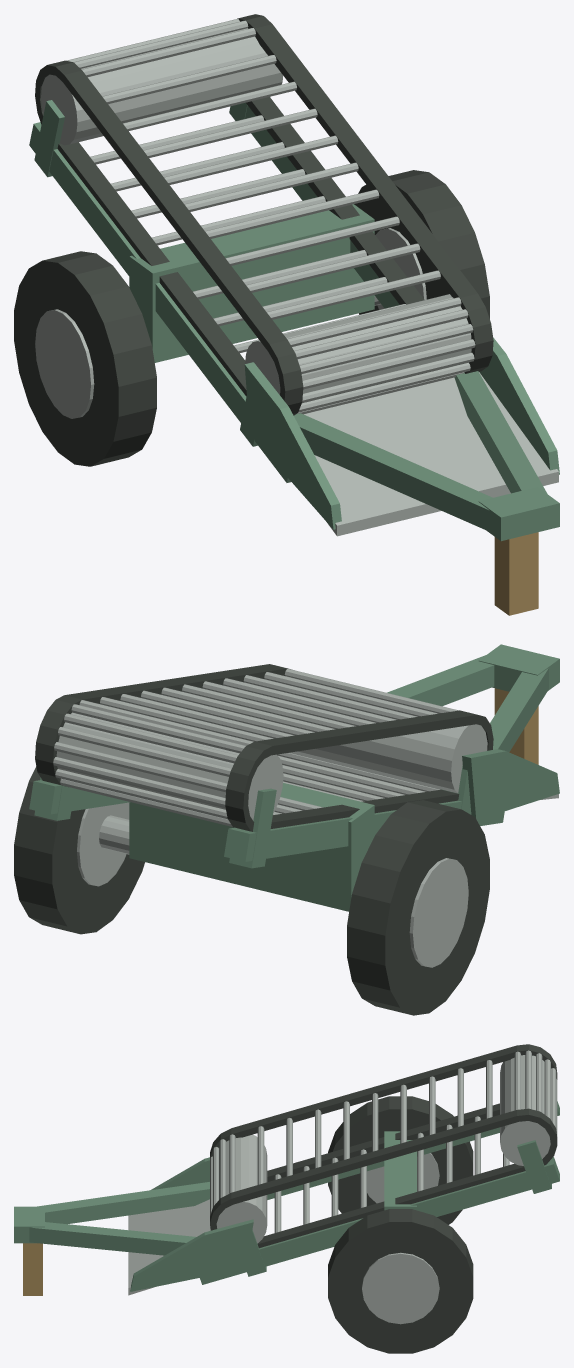
The picture shows the model from 3 angles, top to bottom: view 1: azimuth 30°, elevation 25°; view 2: azimuth 150°, elevation 25°; view 3: azimuth 270°, elevation 25°; orthographic projection. The views are drawn at different scales.
Parts seen in each view (by area): view 1: WholeFacetedGroundWheel0, WholeClosedSideRodWebBand0, WholeBroadBluntFrontShare, WholeRaisedAxleCarrier, WholeClosedSideRodWebBand1, WholeWebEndRoller1, WholeForwardDivergingTowBeam0, WholeInclinedLowerSideFrame0, WholeFacetedGroundWheel1, WholeWebEndRoller0, WholeLowForwardShareCheek0, WholeProudWheelHub0 (+30 smaller); view 2: WholeFacetedGroundWheel0, WholeRaisedAxleCarrier, WholeFacetedGroundWheel1, WholeClosedSideRodWebBand0, WholeWebEndRoller0, WholeWebEndRoller1, WholeProudWheelHub0, WholeLowForwardShareCheek0, WholeClosedSideRodWebBand1, WholeInclinedLowerSideFrame0, WholeForwardDivergingTowBeam1, WholeProudWheelHub1 (+29 smaller); view 3: WholeFacetedGroundWheel1, WholeClosedSideRodWebBand1, WholeClosedSideRodWebBand0, WholeFacetedGroundWheel0, WholeInclinedLowerSideFrame1, WholeLowForwardShareCheek1, WholeProudWheelHub1, WholeForwardDivergingTowBeam0, WholeForwardDivergingTowBeam1, WholeWebEndRoller0, WholeWebEndRoller1, WholeBroadBluntFrontShare (+23 smaller).
Part boxes in pixels (left/top/right/bottom): WholeFacetedGroundWheel0: left=14, top=251, right=156, bottom=466; WholeClosedSideRodWebBand0: left=35, top=60, right=303, bottom=415; WholeBroadBluntFrontShare: left=304, top=372, right=558, bottom=536; WholeRaisedAxleCarrier: left=129, top=204, right=374, bottom=362; WholeClosedSideRodWebBand1: left=237, top=14, right=493, bottom=373; WholeWebEndRoller1: left=41, top=28, right=283, bottom=145; WholeForwardDivergingTowBeam0: left=294, top=413, right=492, bottom=531; WholeInclinedLowerSideFrame0: left=29, top=122, right=290, bottom=482; WholeFacetedGroundWheel1: left=354, top=170, right=489, bottom=318; WholeWebEndRoller0: left=245, top=294, right=471, bottom=403; WholeLowForwardShareCheek0: left=244, top=362, right=341, bottom=529; WholeProudWheelHub0: left=35, top=309, right=94, bottom=418; WholeFacetedGroundWheel0: left=347, top=800, right=489, bottom=1015; WholeRaisedAxleCarrier: left=129, top=783, right=374, bottom=911; WholeFacetedGroundWheel1: left=14, top=766, right=144, bottom=934; WholeClosedSideRodWebBand0: left=225, top=710, right=493, bottom=831; WholeWebEndRoller0: left=289, top=724, right=487, bottom=793; WholeWebEndRoller1: left=56, top=712, right=283, bottom=820; WholeProudWheelHub0: left=409, top=858, right=468, bottom=967; WholeLowForwardShareCheek0: left=462, top=749, right=559, bottom=820; WholeClosedSideRodWebBand1: left=35, top=664, right=290, bottom=787; WholeInclinedLowerSideFrame0: left=224, top=800, right=504, bottom=861; WholeForwardDivergingTowBeam1: left=387, top=655, right=494, bottom=706; WholeProudWheelHub1: left=77, top=802, right=129, bottom=886; WholeFacetedGroundWheel1: left=328, top=1209, right=473, bottom=1353; WholeClosedSideRodWebBand1: left=210, top=1108, right=557, bottom=1248; WholeClosedSideRodWebBand0: left=210, top=1044, right=557, bottom=1181; WholeFacetedGroundWheel0: left=328, top=1096, right=473, bottom=1224; WholeInclinedLowerSideFrame1: left=200, top=1157, right=559, bottom=1284; WholeLowForwardShareCheek1: left=130, top=1219, right=253, bottom=1291; WholeProudWheelHub1: left=362, top=1252, right=439, bottom=1324; WholeForwardDivergingTowBeam0: left=37, top=1182, right=209, bottom=1224; WholeForwardDivergingTowBeam1: left=29, top=1222, right=195, bottom=1255; WholeWebEndRoller0: left=216, top=1134, right=267, bottom=1243; WholeWebEndRoller1: left=500, top=1055, right=550, bottom=1165; WholeBroadBluntFrontShare: left=128, top=1199, right=210, bottom=1295.
Bounding box in the file's own units: 1.67 × 1.28 × 3.01.
